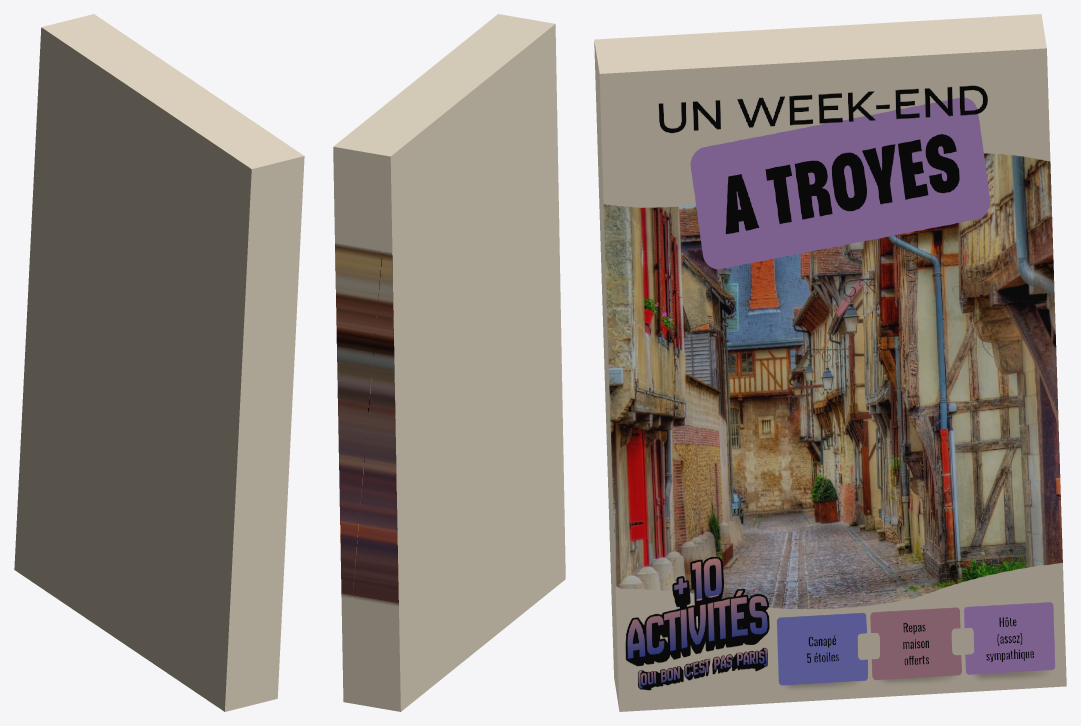
Rendered from flyer.glb.
3 renders of one model, left to right at view 1: azimuth 30°, elevation 25°; view 2: azimuth 150°, elevation 25°; view 3: azimuth 270°, elevation 25°, orthographic. The views are drawn at different scales.
Parts seen in each view (by area): view 1: Cube; view 2: Cube; view 3: Cube.
Boxes of the visible parts, <box> form: Cube: <box>14,14,304,711</box>; Cube: <box>333,14,565,711</box>; Cube: <box>594,14,1066,711</box>.
Size of the model in its own units: 0.6753 by 3.72 by 2.4.
1 material, 1 textured.
